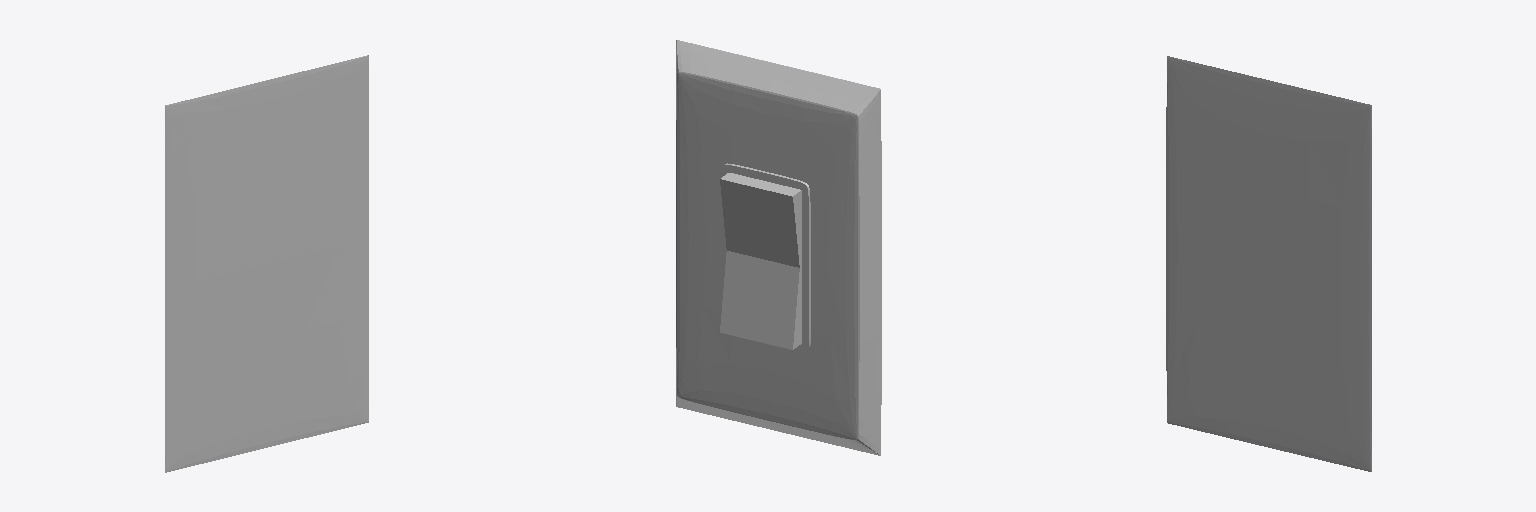
File: Switch2.obj
3 renders of one model, left to right at view 1: azimuth 30°, elevation 25°; view 2: azimuth 150°, elevation 25°; view 3: azimuth 330°, elevation 25°, orthographic.
Visible parts, largest first — view 1: 10121_Light_Switch_v1_L3; view 2: 10121_Light_Switch_v1_L3; view 3: 10121_Light_Switch_v1_L3.
Part boxes in pixels (x1,y1,x2,y2): 10121_Light_Switch_v1_L3: (165,55,368,472); 10121_Light_Switch_v1_L3: (676,40,881,455); 10121_Light_Switch_v1_L3: (1166,56,1371,471).
Bounding box in the file's own units: 5.55 × 9.54 × 1.1.